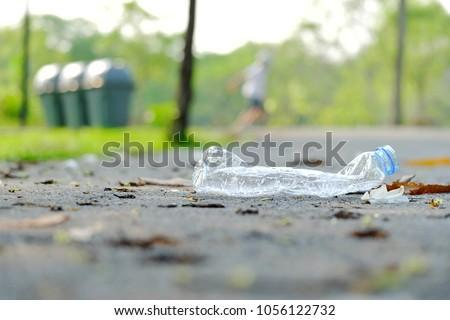bottle: (190, 140, 408, 200)
